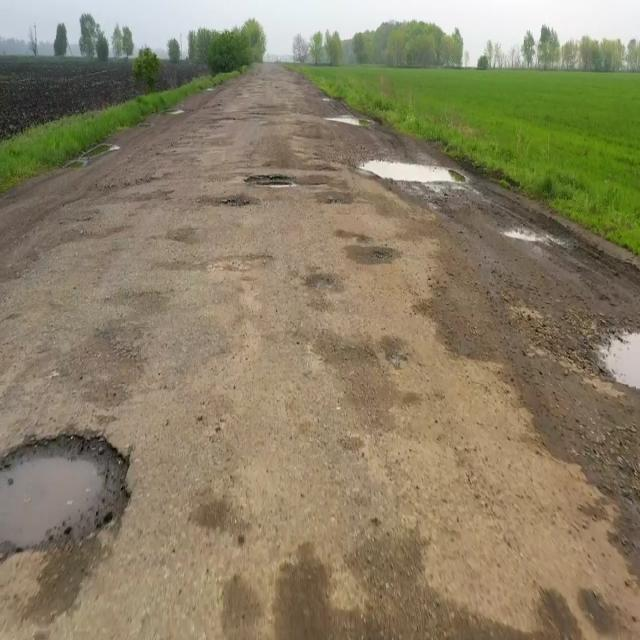road-pothole: (1, 436, 131, 552), (360, 158, 464, 183), (595, 330, 638, 385), (56, 140, 119, 172), (322, 114, 373, 134), (504, 225, 544, 249), (249, 174, 296, 194)
